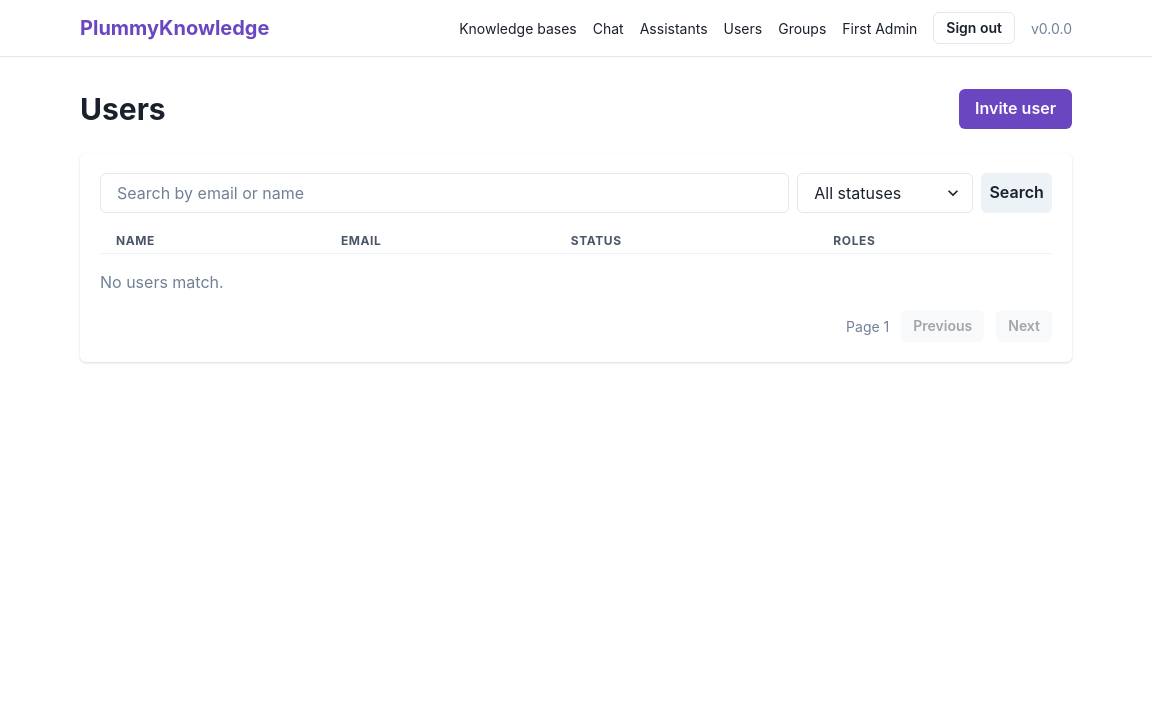
administration pages › shows the email conflict from the server
This screenshot has width=1152, height=720.
Click the button "Invite user" at (1016, 109), box [959,89,1072,129]
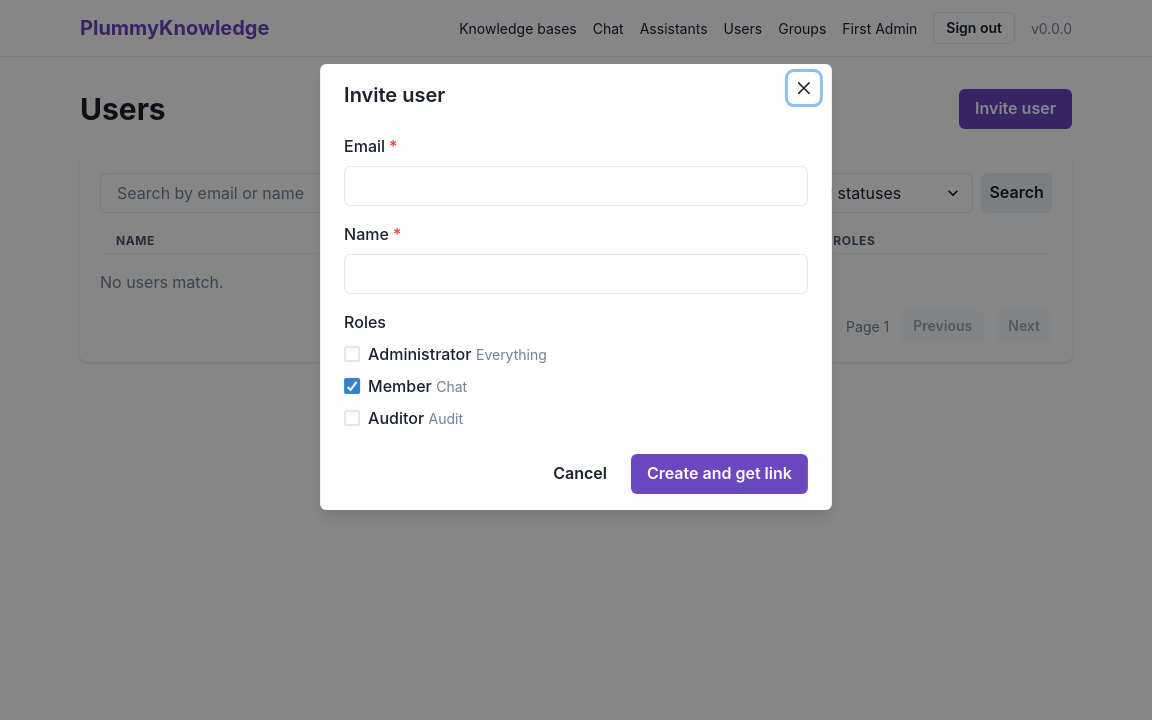
Type "taken@example.com" into the field labelled "Email*" at (576, 186), box [344,166,808,206]
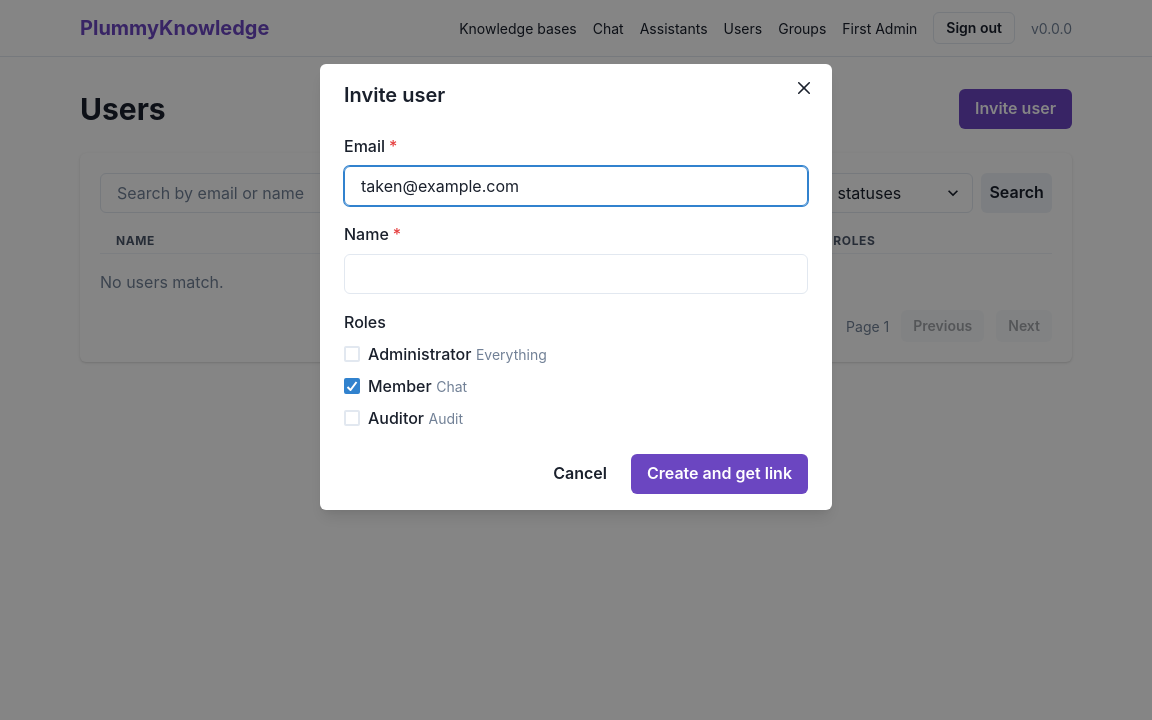
Type "Taken" into the field labelled "Name*" at (576, 274), box [344,254,808,294]
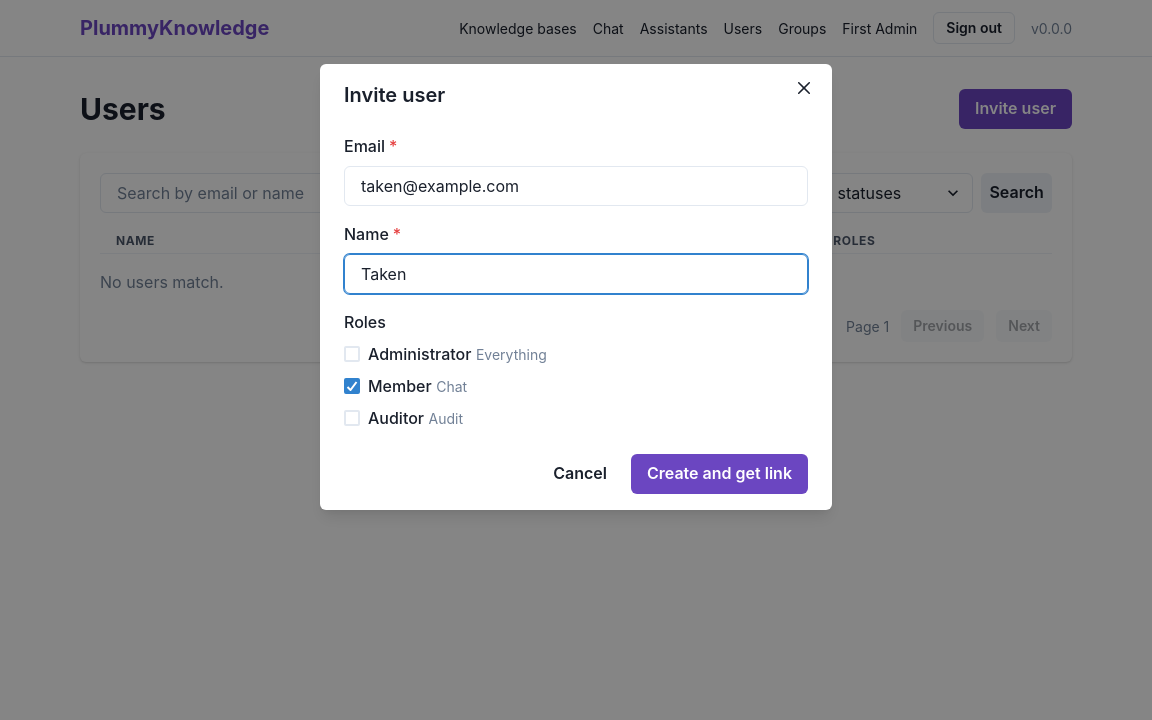
Click the button "Create and get link" at (720, 474), box [631,454,808,494]
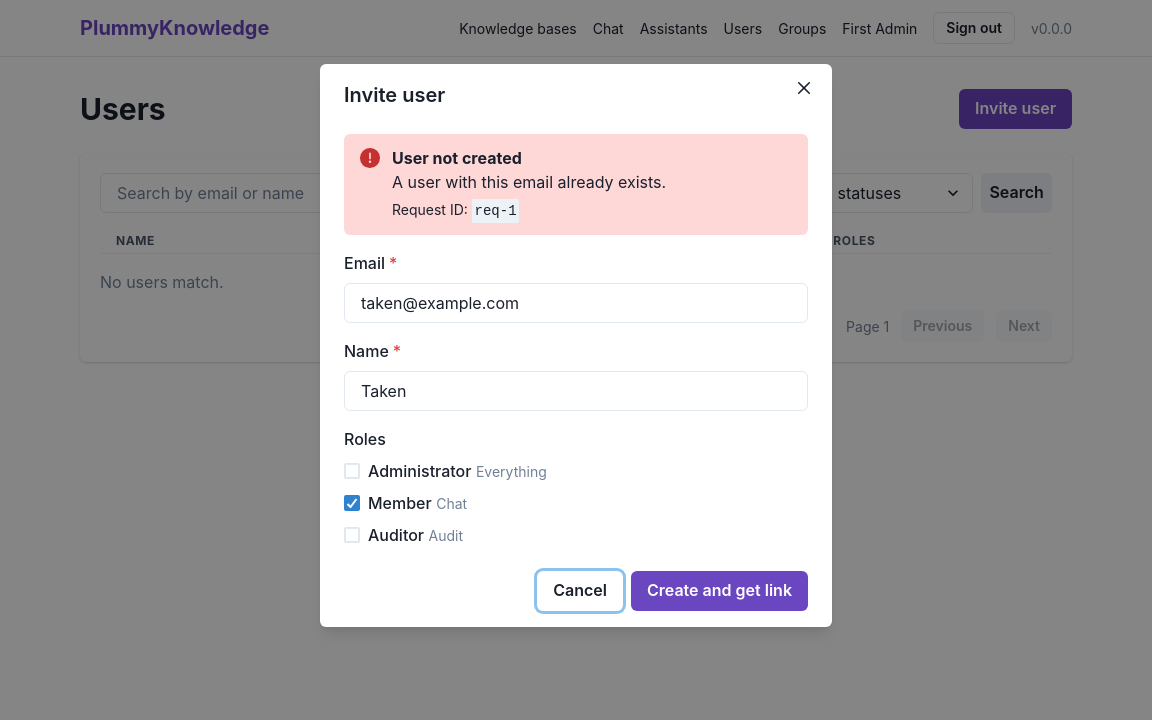
Result: the text "A user with this email already exists." is shown at [392,170,666,194]
